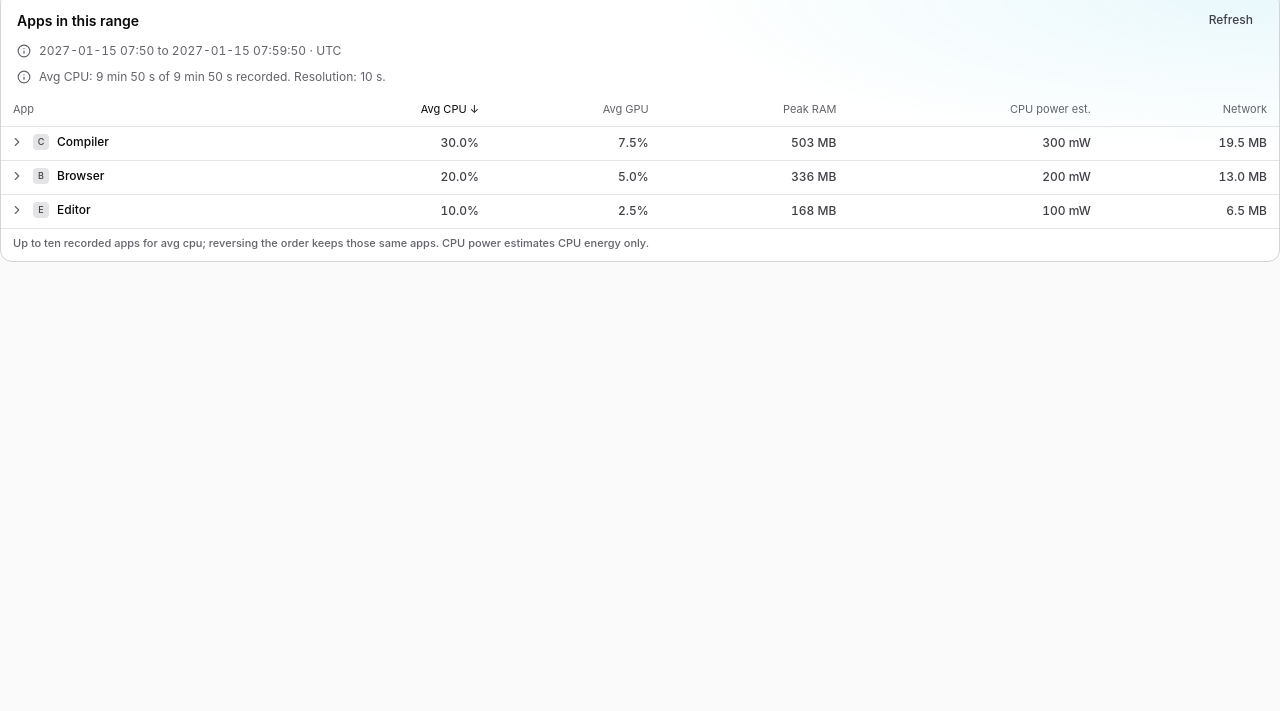
Scenario: restarts a stale process continuation instead of retaining earlier pages
This screenshot has width=1280, height=711.
Expected: the text "Compiler" is shown, [57, 134, 109, 150]
Click the button named "Show Compiler recorded processes".
click(17, 142)  # box [9, 134, 25, 150]
(page scrolled)
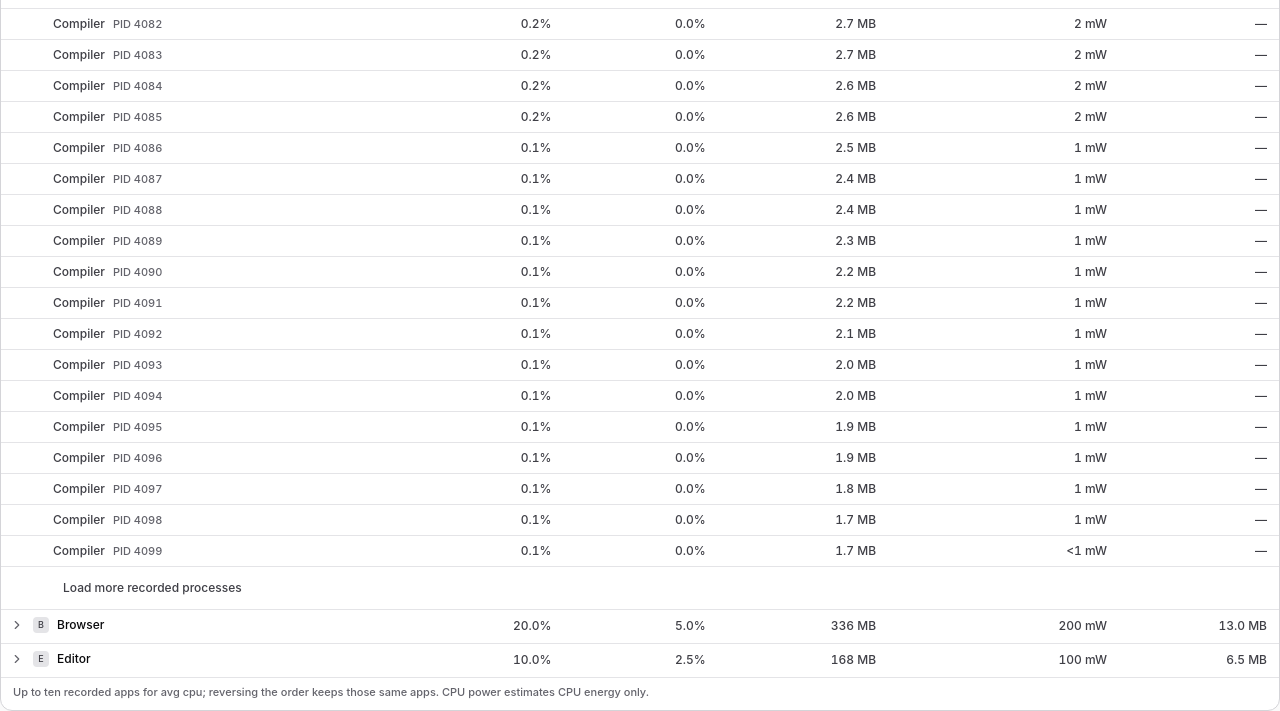
Result: the text "PID 4099" is shown at [113, 544, 162, 558]
Click the button "Load more recorded processes".
click(152, 588)  # box [53, 574, 252, 602]
(page scrolled)
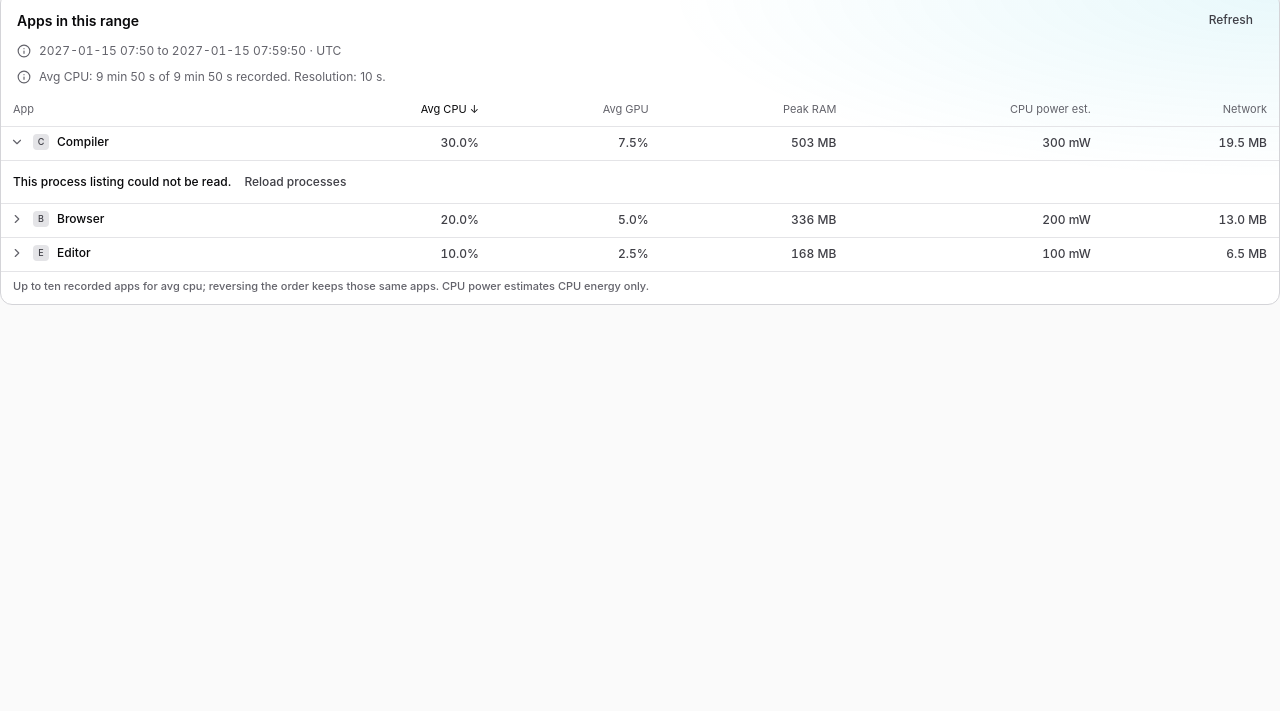
Result: the message "This process listing could not be read." is shown at [13, 174, 231, 188]
Click the button "Reload processes".
click(295, 182)  # box [234, 168, 356, 196]
(page scrolled)
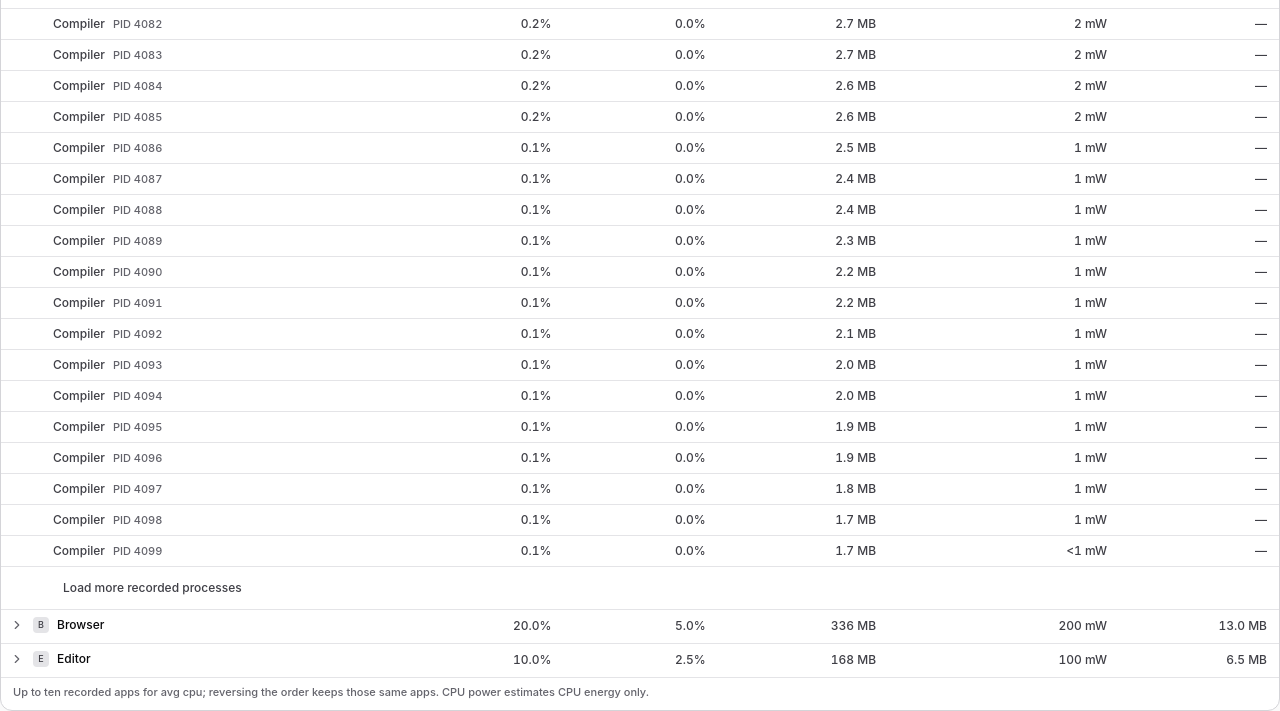
Result: the text "PID 4099" is shown at [113, 544, 162, 558]
